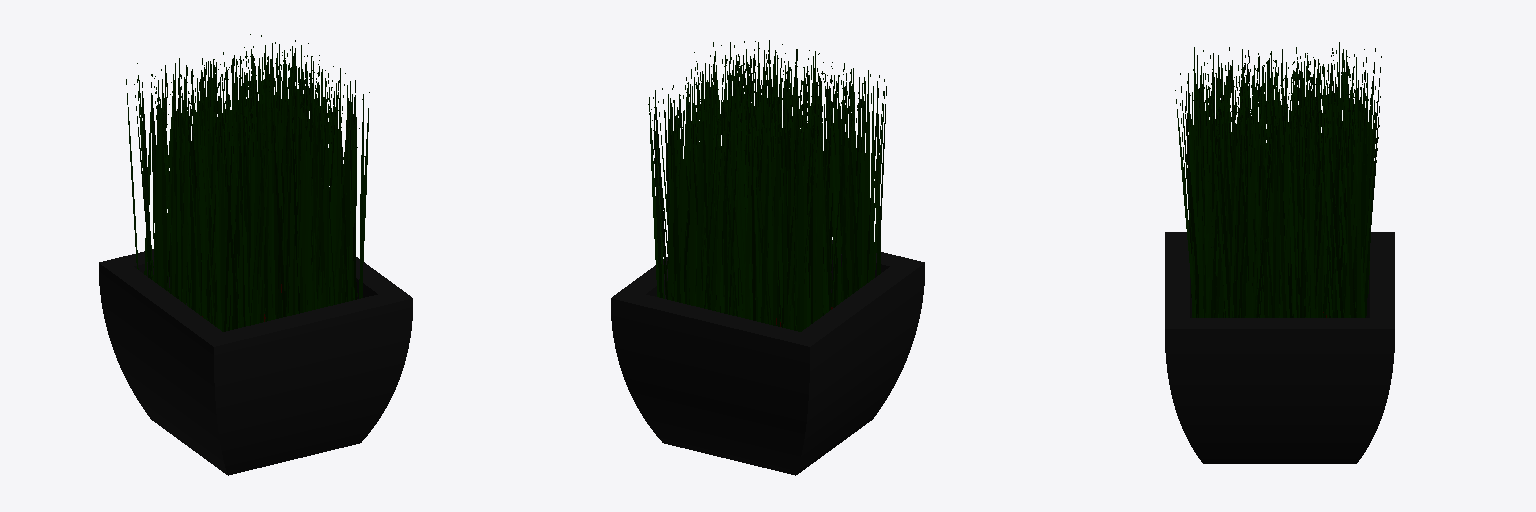
The model's file is pot.obj.
The picture shows the model from 3 angles: view 1: azimuth 30°, elevation 25°; view 2: azimuth 150°, elevation 25°; view 3: azimuth 270°, elevation 25°; orthographic projection.
Parts seen in each view (by area): view 1: grass, pot; view 2: grass, pot; view 3: grass, pot.
Part boxes in pixels (left/top/right/bottom): grass: left=126, top=34, right=369, bottom=331; pot: left=99, top=249, right=412, bottom=475; grass: left=648, top=40, right=886, bottom=331; pot: left=611, top=240, right=924, bottom=475; grass: left=1175, top=42, right=1381, bottom=317; pot: left=1165, top=232, right=1394, bottom=463.
Bounding box in the file's own units: 0.09 × 0.151 × 0.09.